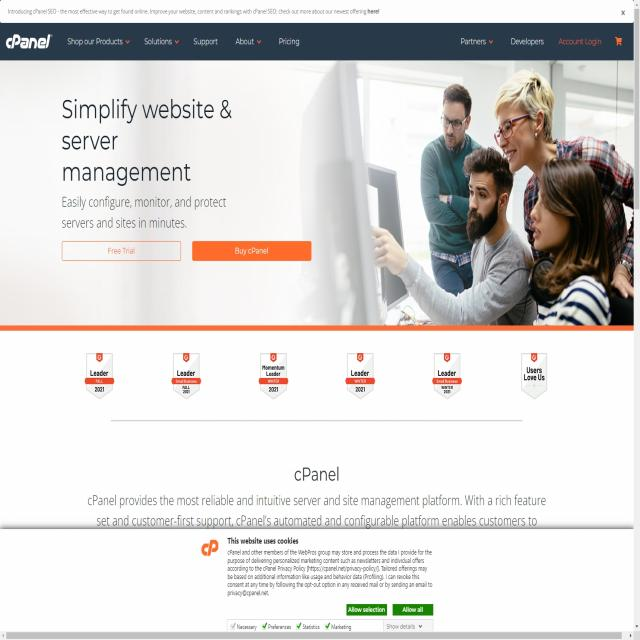menu-bar: (64, 28, 305, 52), (455, 27, 628, 52)
